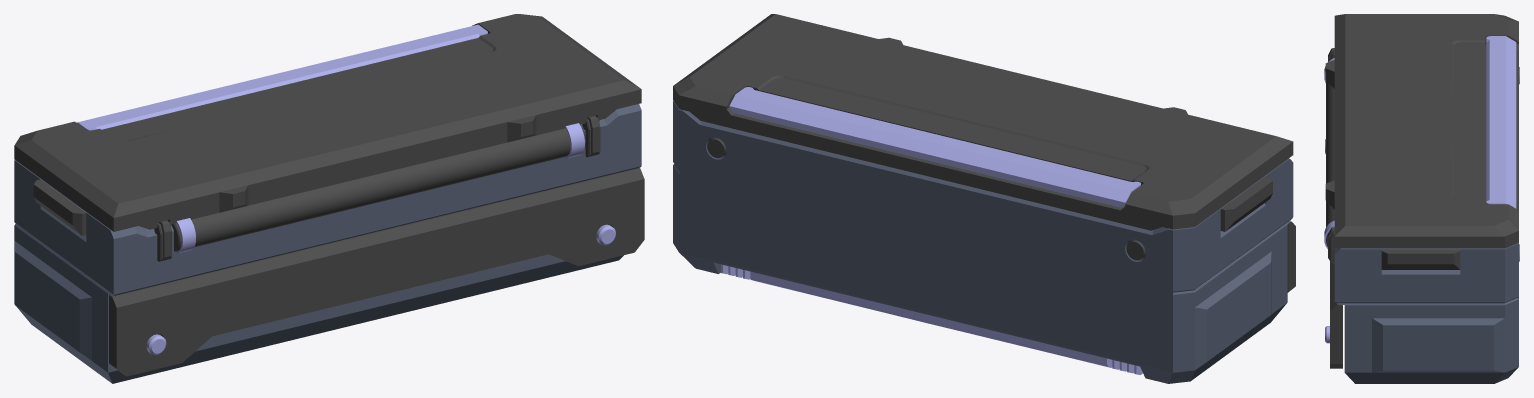
The model's file is Triple Crate.glb.
3 views of the same model, side by side, from view 1: azimuth 30°, elevation 25°; view 2: azimuth 150°, elevation 25°; view 3: azimuth 270°, elevation 25° (orthographic). The views are drawn at different scales.
Parts seen in each view (by area): view 1: Triple Crate; view 2: Triple Crate; view 3: Triple Crate.
Part boxes in pixels (bbox=[...]): Triple Crate: bbox=[14, 14, 644, 383]; Triple Crate: bbox=[673, 14, 1295, 383]; Triple Crate: bbox=[1324, 14, 1519, 383].
Size of the model in its own units: 3.11 by 1 by 1.12.
